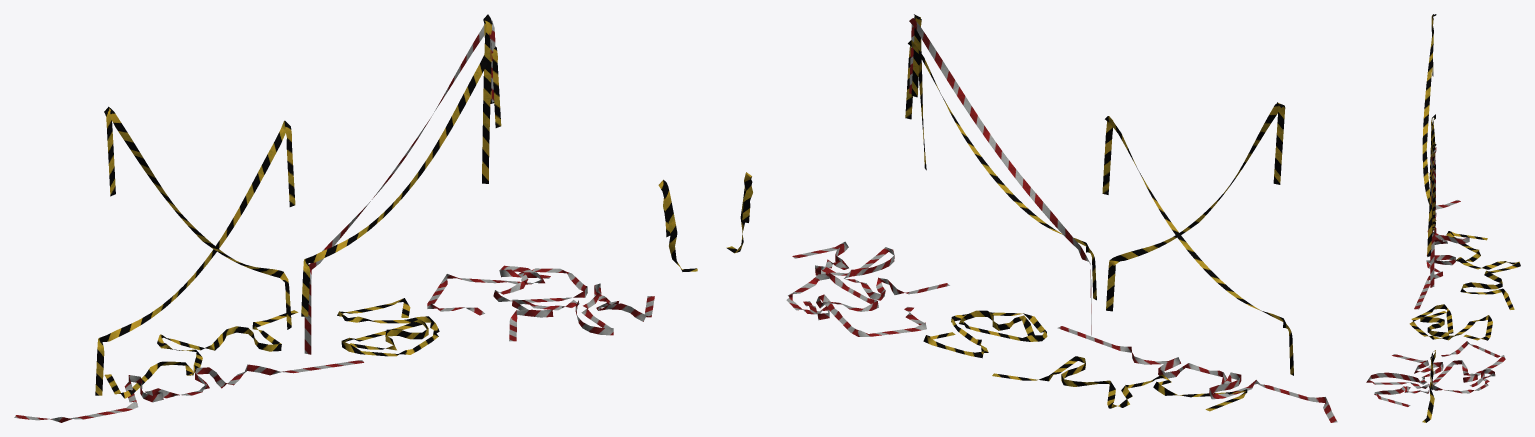
The model's file is poppy_playtime_4_caution_tapes.glb.
3 views of the same model, side by side, from view 1: azimuth 30°, elevation 25°; view 2: azimuth 150°, elevation 25°; view 3: azimuth 270°, elevation 25° (orthographic). The views are drawn at different scales.
Parts seen in each view (by area): view 1: SM_CautionTape_Door_B.mo, SM_CautionTape_Door_A.mo, SM_WarningTape_Floor_B.mo, SM_WarningTape_Floor_E.mo, SM_WarningTape_Door_C.mo, SM_WarningTape_Floor_D.mo, SM_WarningTape_Floor_C.mo, SM_WarningTape_Floor_A.mo, SM_WarningTape_Door_D.mo; view 2: SM_CautionTape_Door_B.mo, SM_WarningTape_Door_D.mo, SM_WarningTape_Floor_E.mo, SM_WarningTape_Floor_C.mo, SM_WarningTape_Floor_B.mo, SM_WarningTape_Floor_A.mo, SM_WarningTape_Floor_D.mo, SM_CautionTape_Door_A.mo, SM_WarningTape_Door_C.mo; view 3: SM_WarningTape_Floor_A.mo, SM_WarningTape_Floor_D.mo, SM_WarningTape_Floor_B.mo, SM_CautionTape_Door_B.mo, SM_WarningTape_Floor_C.mo, SM_WarningTape_Floor_E.mo, SM_WarningTape_Door_C.mo, SM_WarningTape_Door_D.mo, SM_CautionTape_Door_A.mo.
Part boxes in pixels (x1,y1,x2,y2): SM_CautionTape_Door_B.mo: [95, 106, 295, 395]; SM_CautionTape_Door_A.mo: [301, 46, 501, 316]; SM_WarningTape_Floor_B.mo: [337, 298, 439, 356]; SM_WarningTape_Floor_E.mo: [14, 360, 363, 422]; SM_WarningTape_Door_C.mo: [482, 14, 697, 271]; SM_WarningTape_Floor_D.mo: [509, 283, 654, 341]; SM_WarningTape_Floor_C.mo: [427, 265, 587, 315]; SM_WarningTape_Floor_A.mo: [104, 310, 298, 398]; SM_WarningTape_Door_D.mo: [304, 20, 495, 354]; SM_CautionTape_Door_B.mo: [1102, 102, 1293, 375]; SM_WarningTape_Door_D.mo: [909, 18, 1091, 335]; SM_WarningTape_Floor_E.mo: [1057, 326, 1337, 422]; SM_WarningTape_Floor_C.mo: [786, 273, 926, 336]; SM_WarningTape_Floor_B.mo: [923, 310, 1047, 358]; SM_WarningTape_Floor_A.mo: [992, 356, 1247, 411]; SM_WarningTape_Floor_D.mo: [792, 241, 949, 300]; SM_CautionTape_Door_A.mo: [905, 40, 1096, 300]; SM_WarningTape_Door_C.mo: [726, 14, 926, 253]; SM_WarningTape_Floor_A.mo: [1446, 231, 1520, 309]; SM_WarningTape_Floor_D.mo: [1366, 354, 1443, 406]; SM_WarningTape_Floor_B.mo: [1409, 304, 1492, 340]; SM_CautionTape_Door_B.mo: [1422, 14, 1436, 221]; SM_WarningTape_Floor_C.mo: [1429, 341, 1505, 393]; SM_WarningTape_Floor_E.mo: [1414, 200, 1469, 309]; SM_WarningTape_Door_C.mo: [1422, 144, 1436, 422]; SM_WarningTape_Door_D.mo: [1430, 147, 1436, 287]; SM_CautionTape_Door_A.mo: [1431, 164, 1435, 233].
Size of the model in its own units: 5.16 by 2.26 by 1.49.
1 material, 1 textured.
